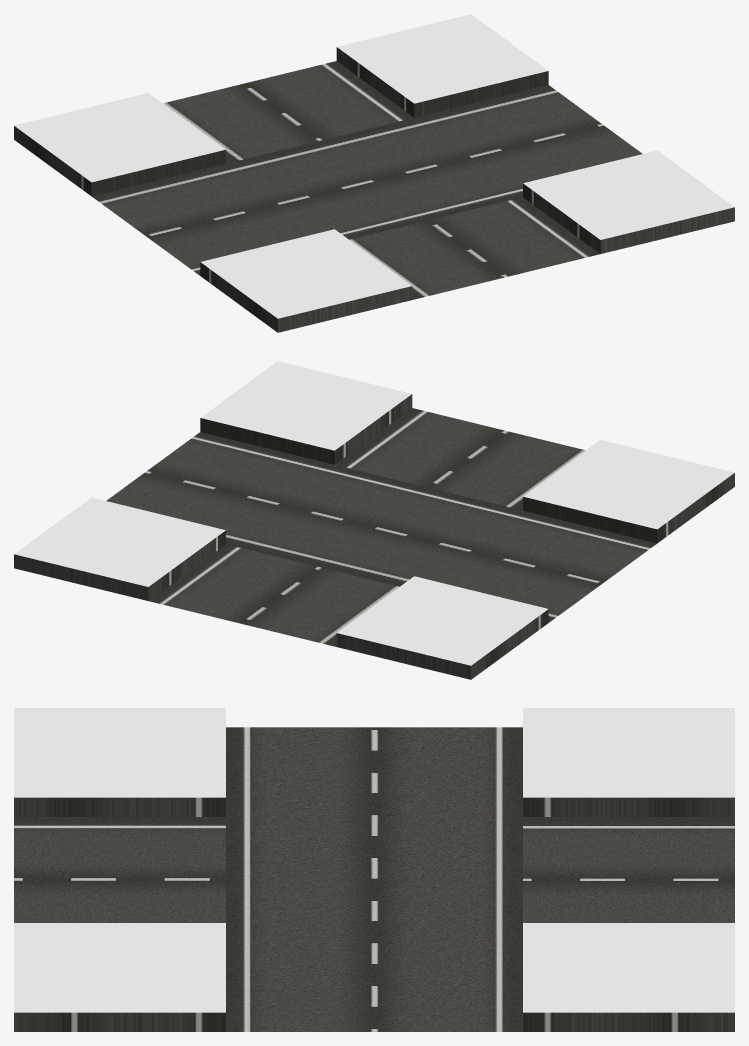
The model's file is kryds.fbx.
The picture shows the model from 3 angles, top to bottom: view 1: azimuth 30°, elevation 25°; view 2: azimuth 150°, elevation 25°; view 3: azimuth 270°, elevation 25°; orthographic projection. The views are drawn at different scales.
Parts seen in each view (by area): view 1: Plane; view 2: Plane; view 3: Plane.
Part boxes in pixels (x1,y1,x2,y2): Plane: (14, 14, 734, 332); Plane: (14, 361, 734, 679); Plane: (14, 708, 734, 1031).
Size of the model in its own units: 1700 by 50 by 1700.
